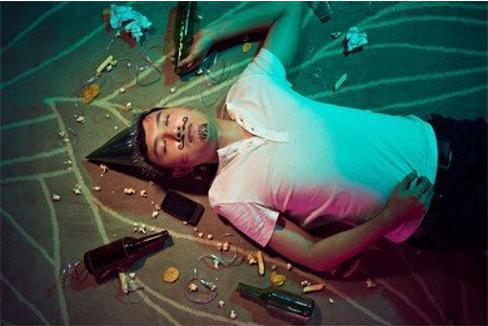Drunk: (143, 109, 214, 165)
